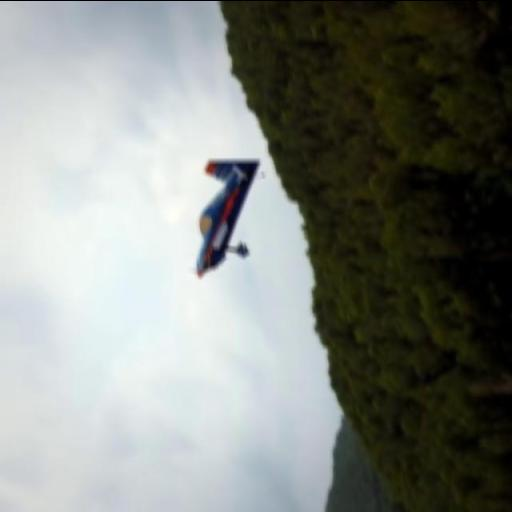uav: (186, 156, 260, 280)
